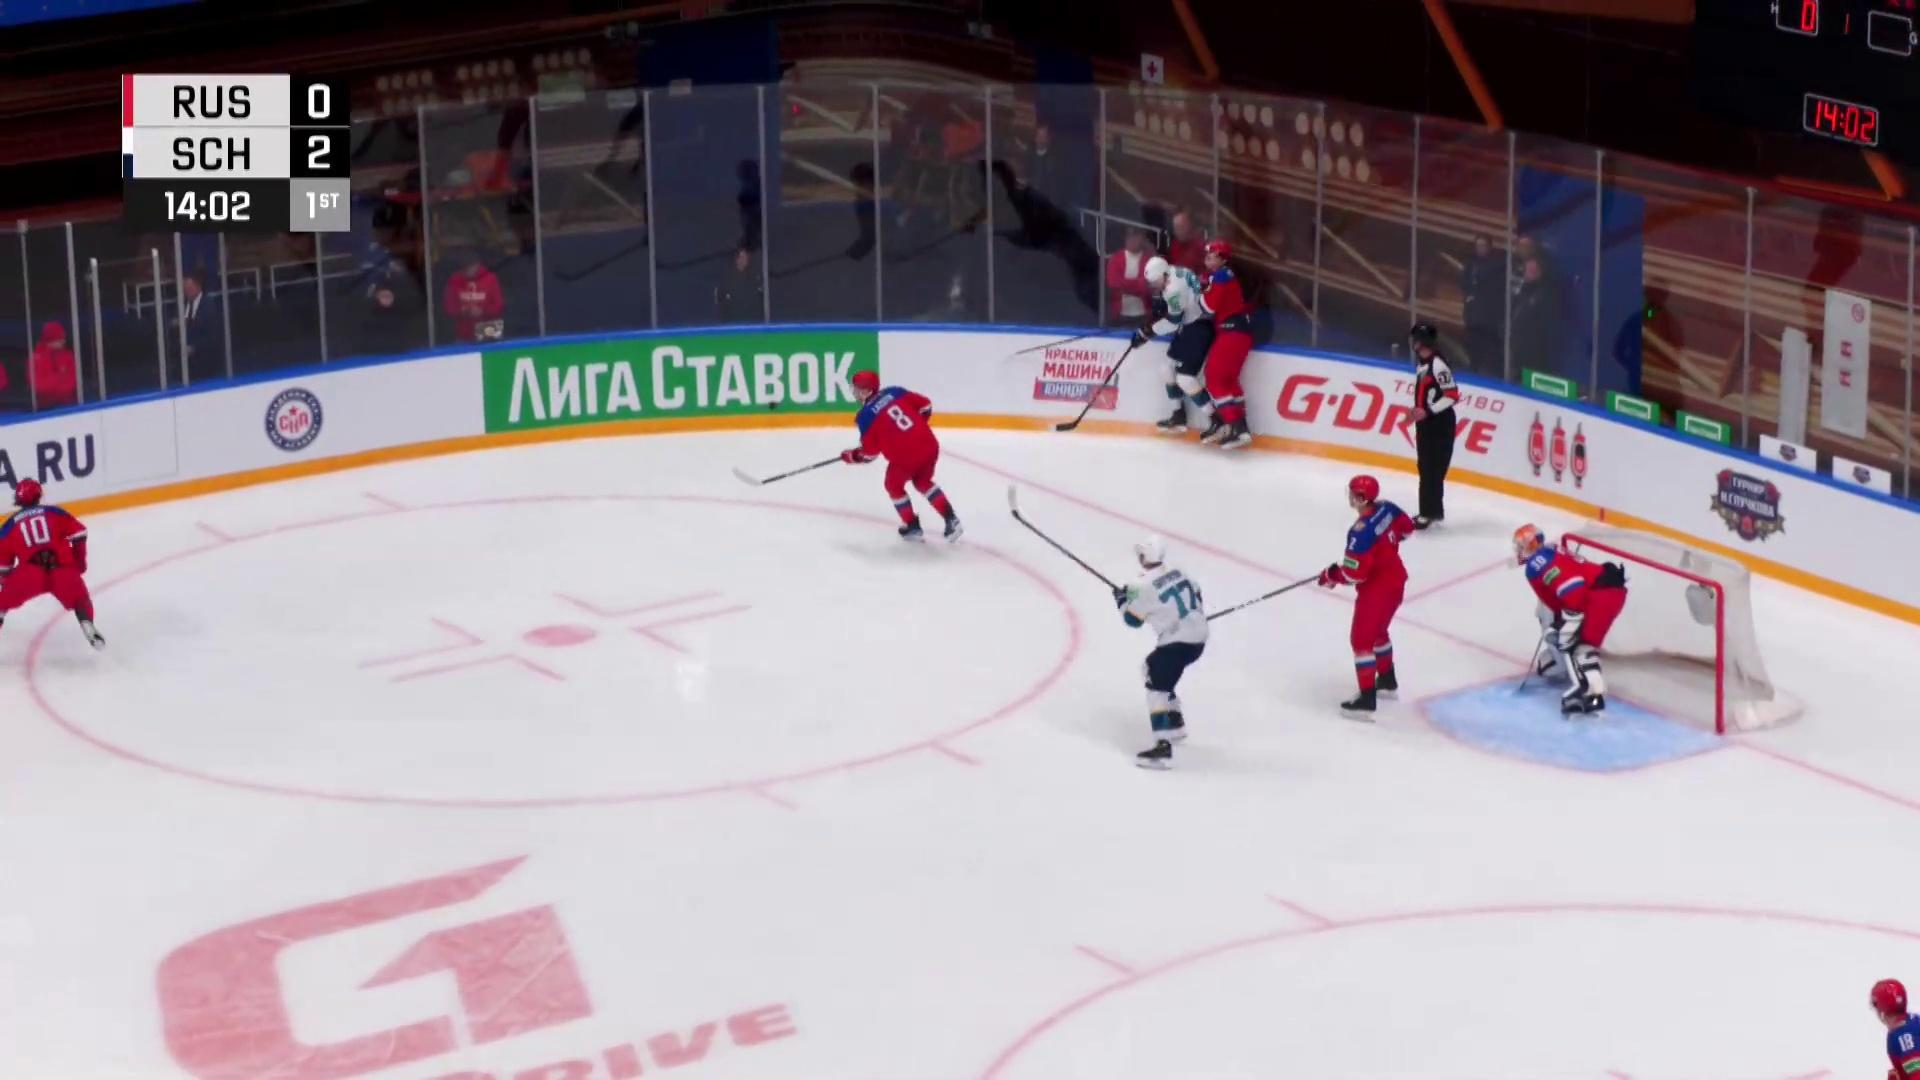ball: (769, 401, 778, 410)
